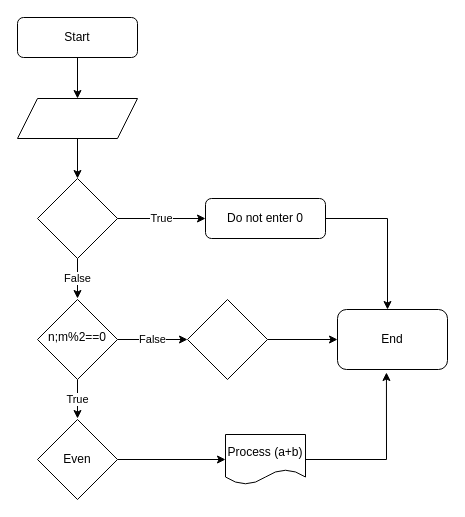
The diagram is 465 pixels wide and 517 high, and some of its shapes have lost their labels. Each missing label, with the box of its shape:
n;m: (16, 98, 138, 138)
n;m==0: (36, 178, 118, 258)
Odd: (186, 298, 268, 380)
